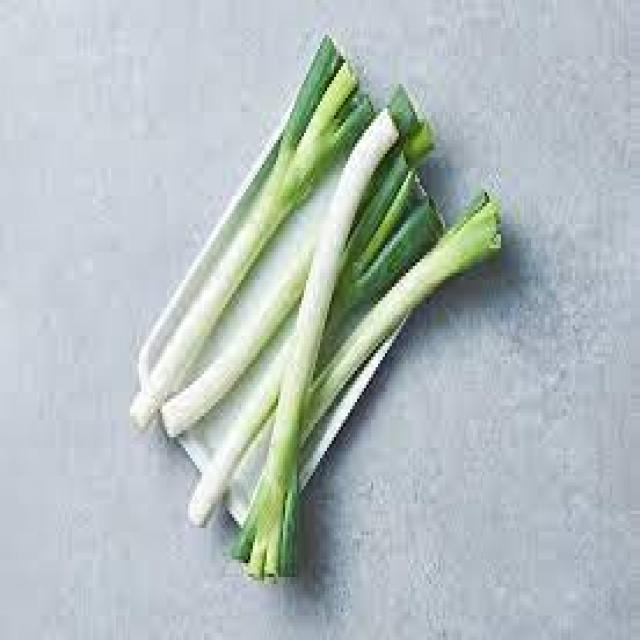spring_onion: (167, 98, 517, 605), (97, 39, 400, 412)
